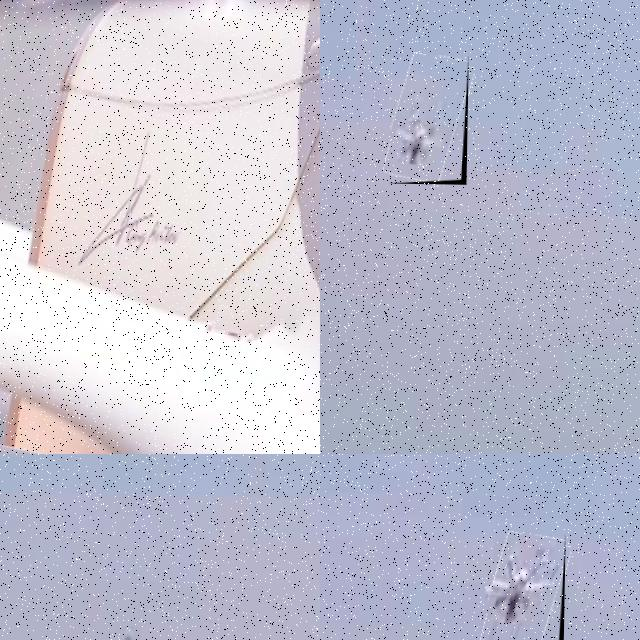drone: (0, 0, 320, 454), (389, 54, 468, 184), (486, 533, 565, 640)
